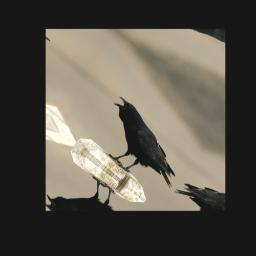Crow: (86, 95, 195, 201)
